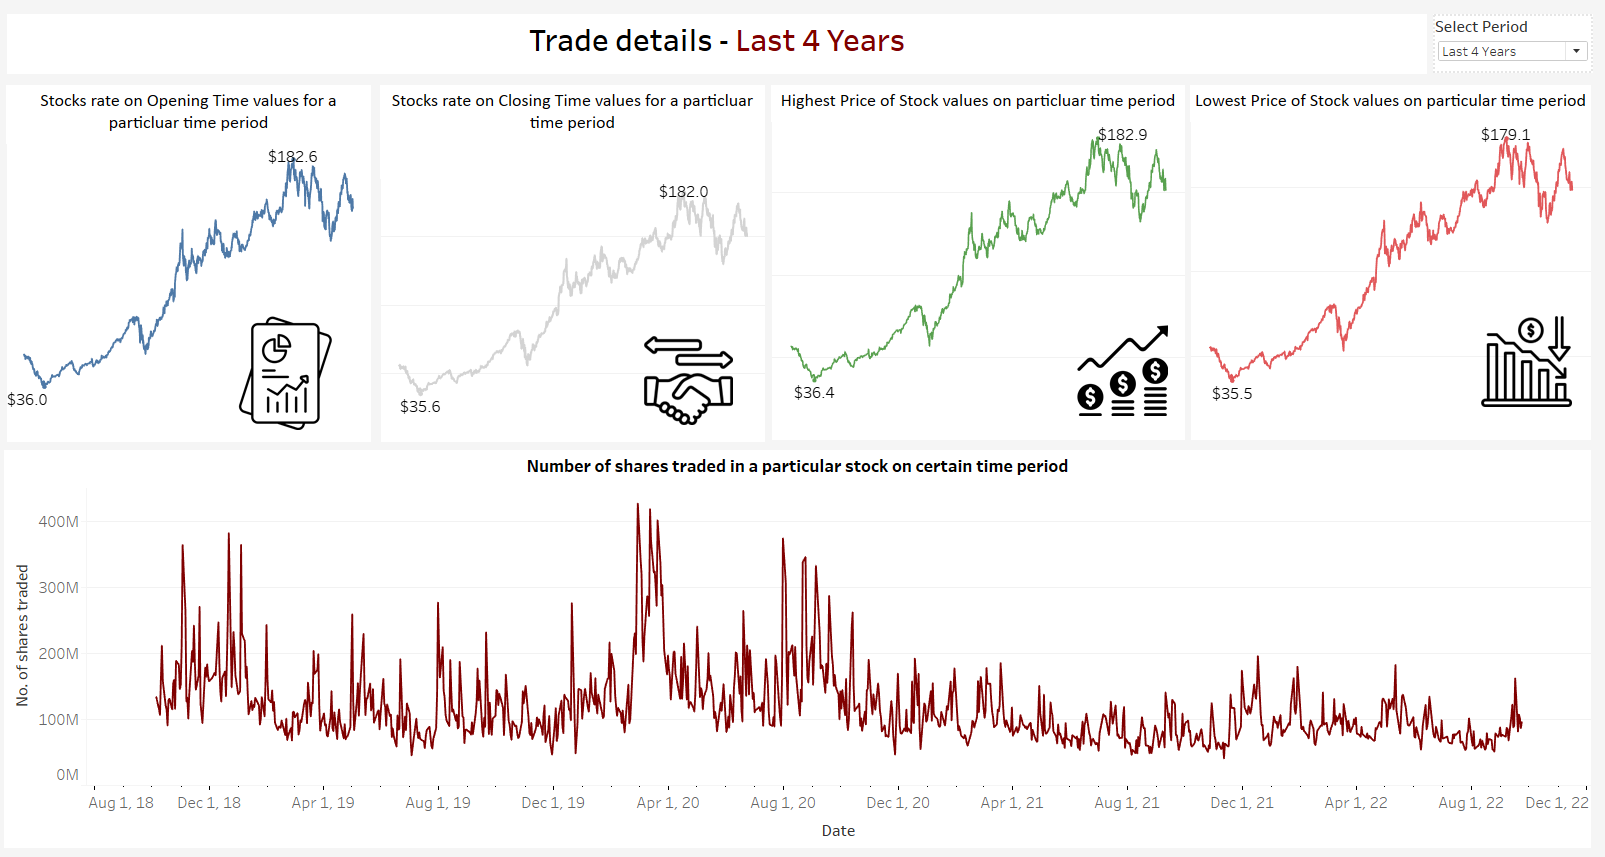

Layout of this report page (visuals, bound fields, positions):
{"tool":"tableau","page":{"name":"Dashboard 3","canvas":[1600,800],"ordinal":0},"visuals":[{"type":"worksheet","title":"Date","mark":"Automatic","box":[8,8,1420,60]},{"type":"parameter","param":"[Parameters].[Parameter 1]","box":[1434,8,160,59]},{"type":"worksheet","title":"Opening Time","mark":"Automatic","rows":["Open"],"cols":["Date"],"box":[7,79,365,358]},{"type":"worksheet","title":"Closing Time","mark":"Line","rows":["Close/Last"],"cols":["Date"],"box":[381,79,385,357]},{"type":"worksheet","title":"High","mark":"Automatic","rows":["High"],"cols":["Date"],"box":[772,79,414,356]},{"type":"worksheet","title":"Low","mark":"Automatic","rows":["Low"],"cols":["Date"],"box":[1191,79,401,355]},{"type":"image","param":"C:/Users/13464/Documents/My Tableau Repository/Shapes/Stock Market/7908946.png","box":[229,310,121,114]},{"type":"image","param":"C:/Users/13464/Documents/My Tableau Repository/Shapes/Stock Market/4748594.png","box":[1482,310,96,91]},{"type":"image","param":"C:/Users/13464/Documents/My Tableau Repository/Shapes/Stock Market/4256796.png","box":[1078,319,91,91]},{"type":"image","param":"C:/Users/13464/Documents/My Tableau Repository/Shapes/Stock Market/4256823.png","box":[645,330,103,89]}]}

Visuals, with their boxes in screenshot pixels (x1, y1, x2, y2):
"Date" worksheet: <box>0,29,1360,91</box>
parameter: <box>1366,29,1530,90</box>
"Opening Time" worksheet: <box>0,102,277,469</box>
"Closing Time" worksheet (Line marks): <box>286,102,681,468</box>
"High" worksheet: <box>687,102,1112,467</box>
"Low" worksheet: <box>1117,102,1528,466</box>
image: <box>130,339,254,456</box>
image: <box>1415,339,1514,432</box>
image: <box>1001,348,1094,441</box>
image: <box>557,359,663,451</box>
